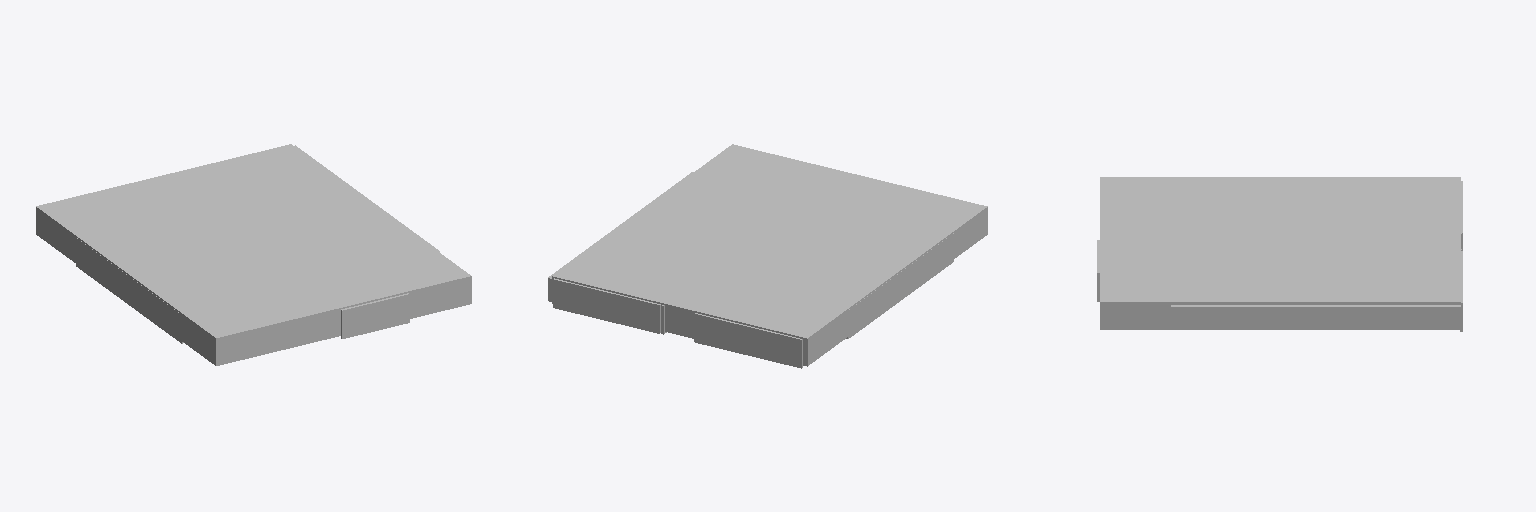
Rendered from Room2Hitbox.obj.
The picture shows the model from 3 angles: view 1: azimuth 30°, elevation 25°; view 2: azimuth 150°, elevation 25°; view 3: azimuth 270°, elevation 25°; orthographic projection.
Visible parts, largest first — view 1: Cube.022_Cube.023, Cube_Cube.001, Cube.017_Cube.018, Cube.002_Cube.003, Cube.001_Cube.002; view 2: Cube.022_Cube.023, Cube.010_Cube.011, Cube.011_Cube.012, Cube.017_Cube.018, Cube_Cube.001; view 3: Cube.022_Cube.023, Cube.004_Cube.005, Cube_Cube.001.
Boxes of the visible parts, box(x1,y1,x2,y2) form: Cube.022_Cube.023: box(36, 144, 471, 340); Cube_Cube.001: box(36, 210, 471, 363); Cube.017_Cube.018: box(76, 238, 183, 343); Cube.002_Cube.003: box(341, 293, 409, 338); Cube.001_Cube.002: box(36, 232, 471, 365); Cube.022_Cube.023: box(552, 144, 987, 340); Cube.010_Cube.011: box(553, 278, 660, 333); Cube.011_Cube.012: box(695, 314, 802, 368); Cube.017_Cube.018: box(846, 233, 953, 338); Cube_Cube.001: box(665, 210, 987, 363); Cube.022_Cube.023: box(1100, 177, 1460, 304); Cube.004_Cube.005: box(1171, 305, 1460, 329); Cube_Cube.001: box(1100, 305, 1170, 327).
Bounding box in the file's own units: 72.63 × 8.12 × 88.47.